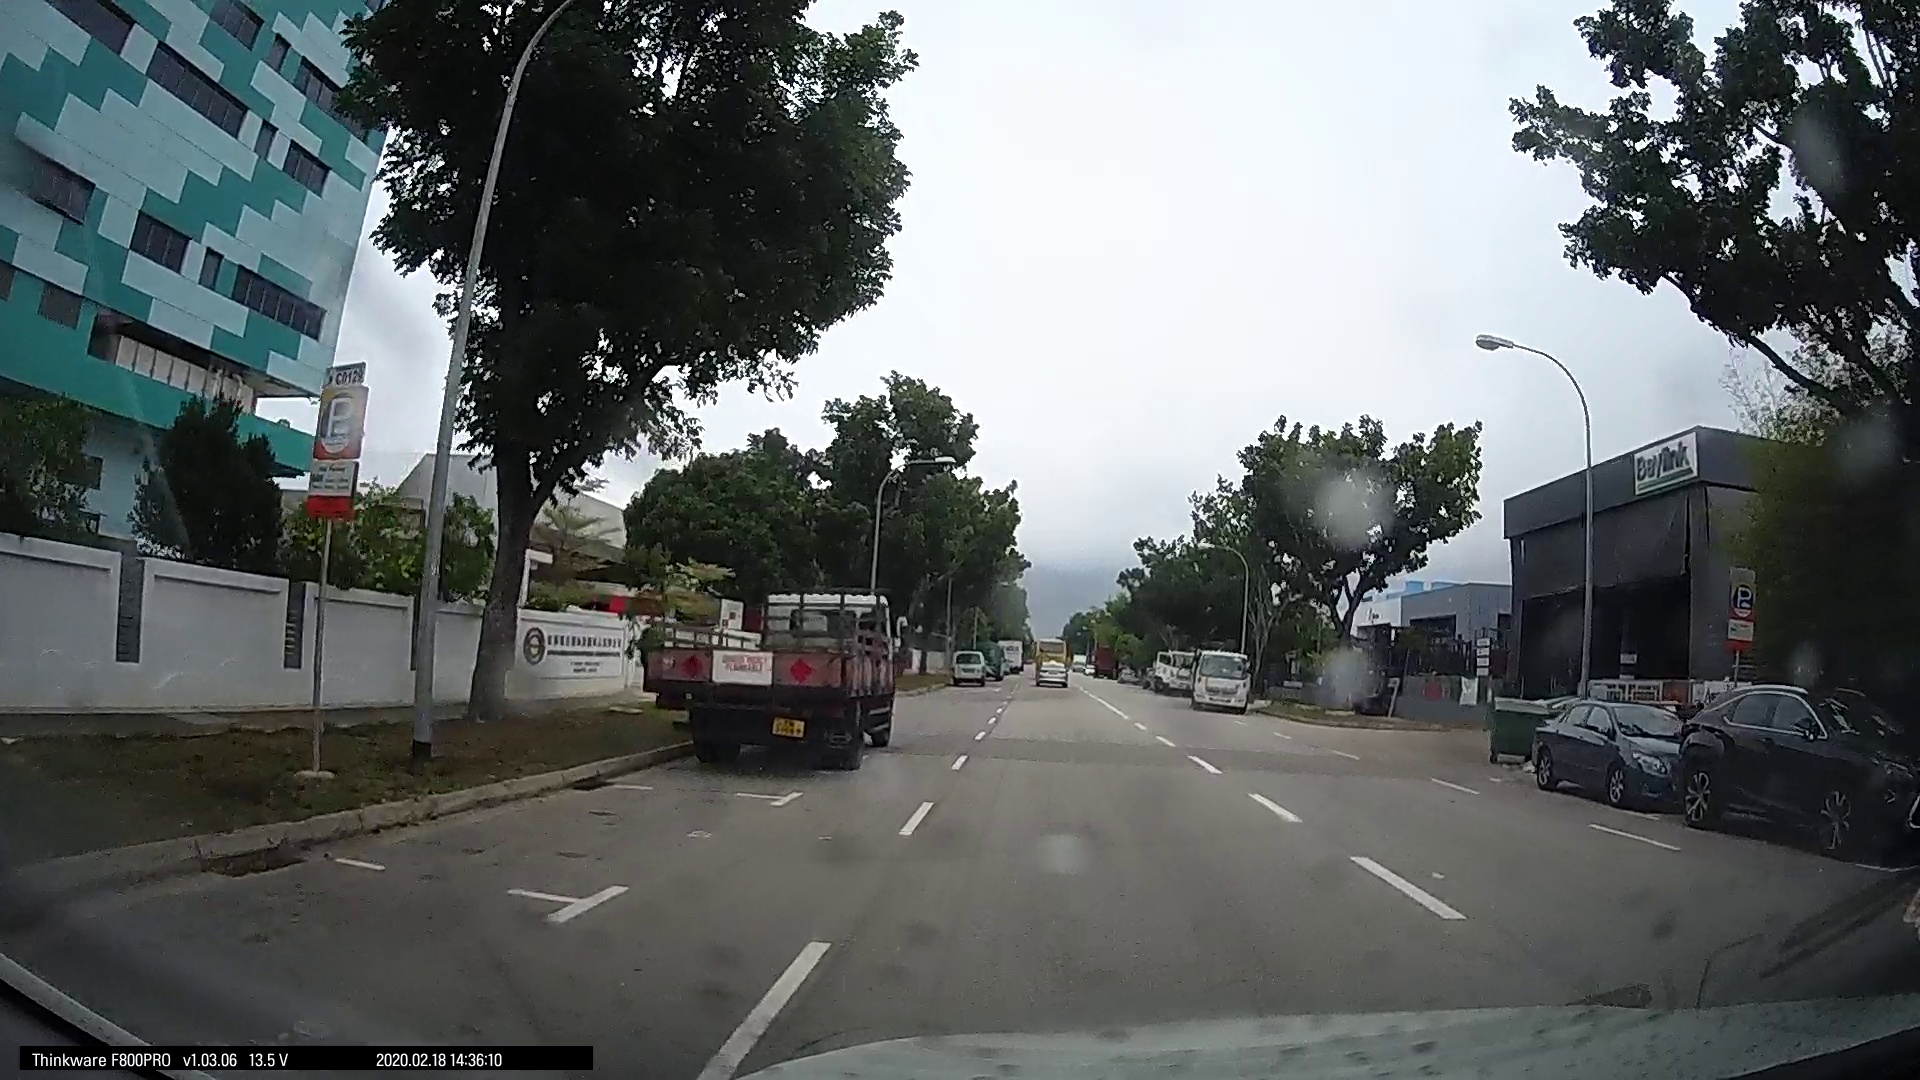Heavy Vehicle: (655, 575, 906, 765)
Light Vehicle: (1672, 678, 1905, 849), (1526, 692, 1688, 808), (1178, 646, 1251, 711), (945, 644, 992, 684), (1027, 645, 1068, 684)
